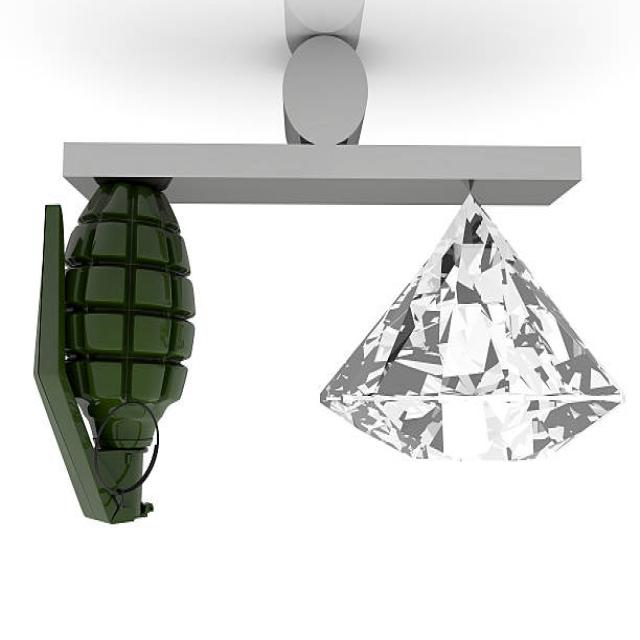grenade: (34, 178, 197, 535)
